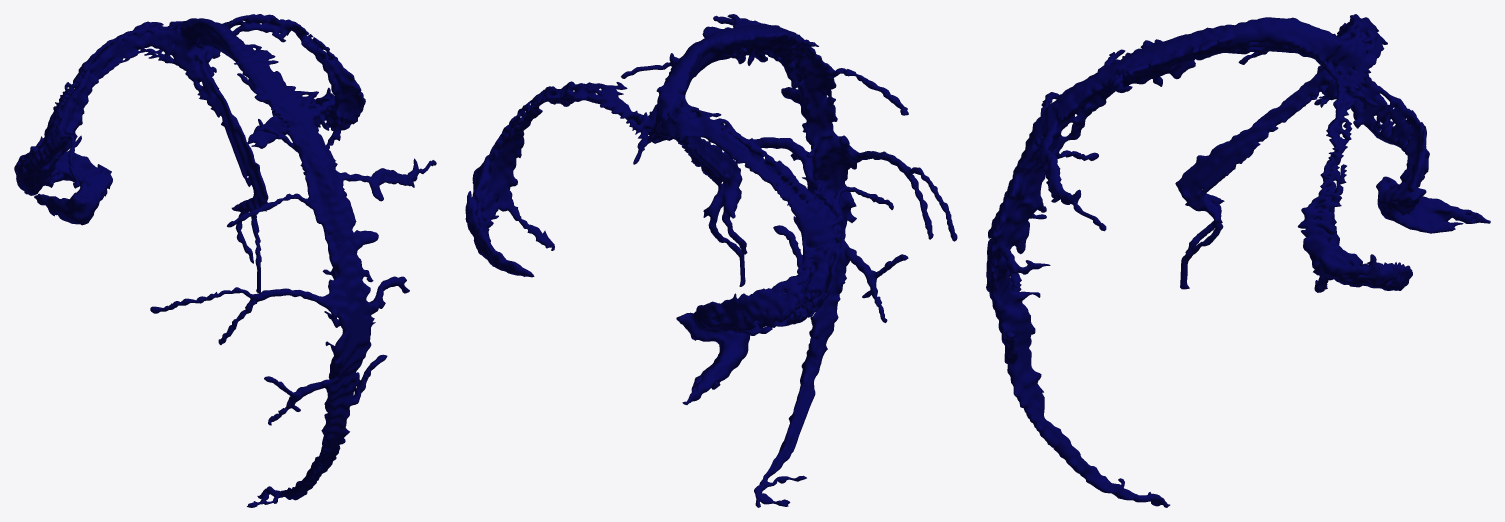
The model's file is Venous_sinus.obj.
3 views of the same model, side by side, from view 1: azimuth 30°, elevation 25°; view 2: azimuth 150°, elevation 25°; view 3: azimuth 270°, elevation 25° (orthographic). The views are drawn at different scales.
Visible parts, largest first — view 1: grp1; view 2: grp1; view 3: grp1.
Boxes of the visible parts, x1,y1,x2,y2 form: grp1: (14,14,436,507); grp1: (465,14,957,507); grp1: (986,14,1490,507).
Size of the model in its own units: 125 by 159 by 148.
